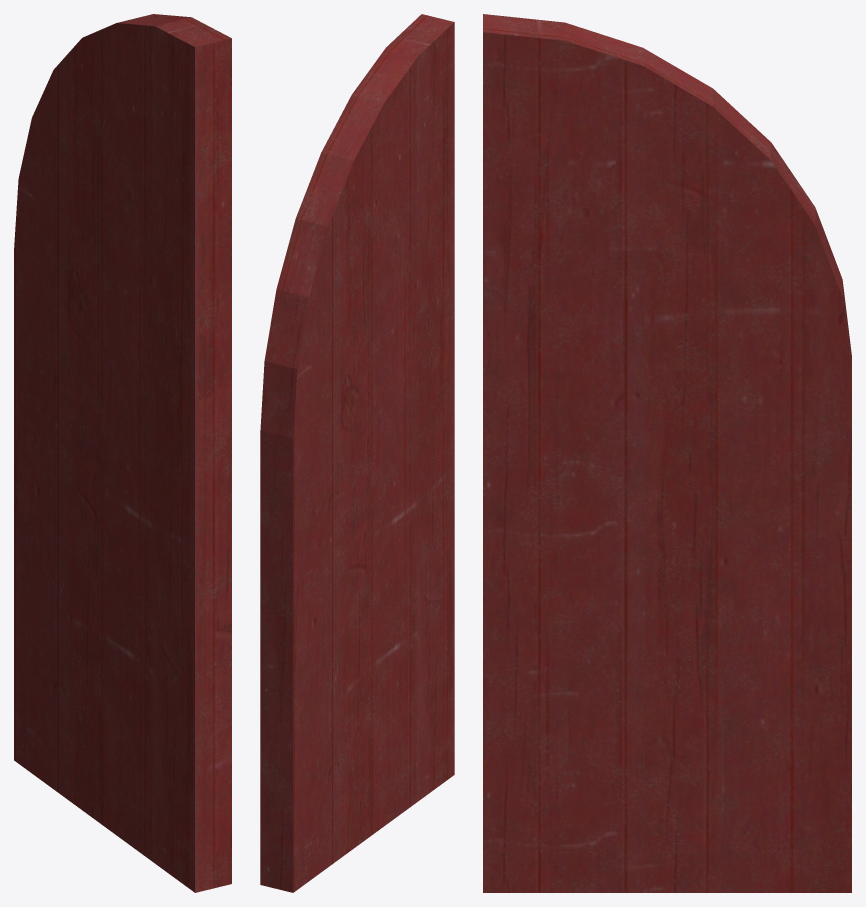
File: SM_D_Arched_2.fbx
3 views of the same model, side by side, from view 1: azimuth 30°, elevation 25°; view 2: azimuth 150°, elevation 25°; view 3: azimuth 270°, elevation 25° (orthographic). The views are drawn at different scales.
Visible parts, largest first — view 1: SM_D_Arched_2; view 2: SM_D_Arched_2; view 3: SM_D_Arched_2.
Part boxes in pixels (x1,y1,x2,y2): SM_D_Arched_2: (14,14,231,892); SM_D_Arched_2: (260,14,454,892); SM_D_Arched_2: (483,14,851,892).
Size of the model in its own units: 9.56 by 81.43 by 210.
1 material, 1 textured.
